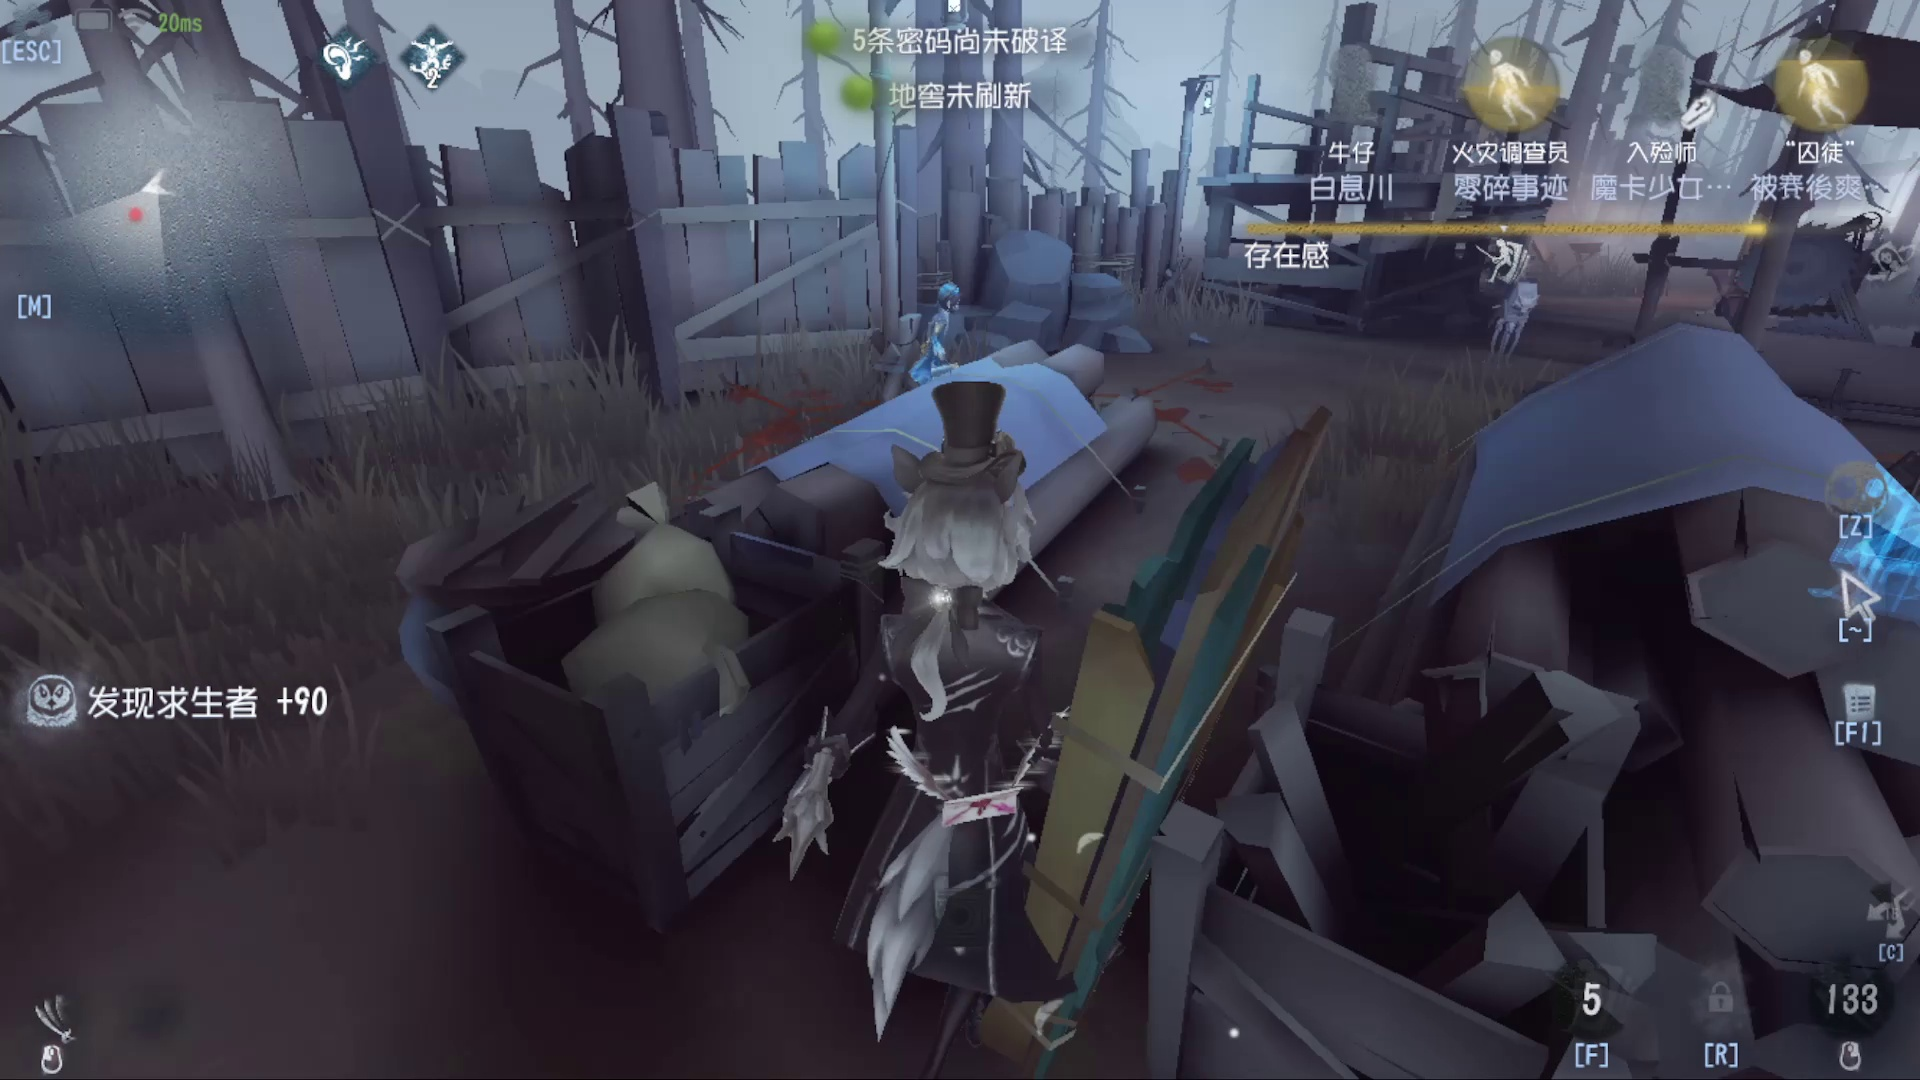木板: (1056, 436, 1241, 994)
求生者: (899, 272, 973, 388)
